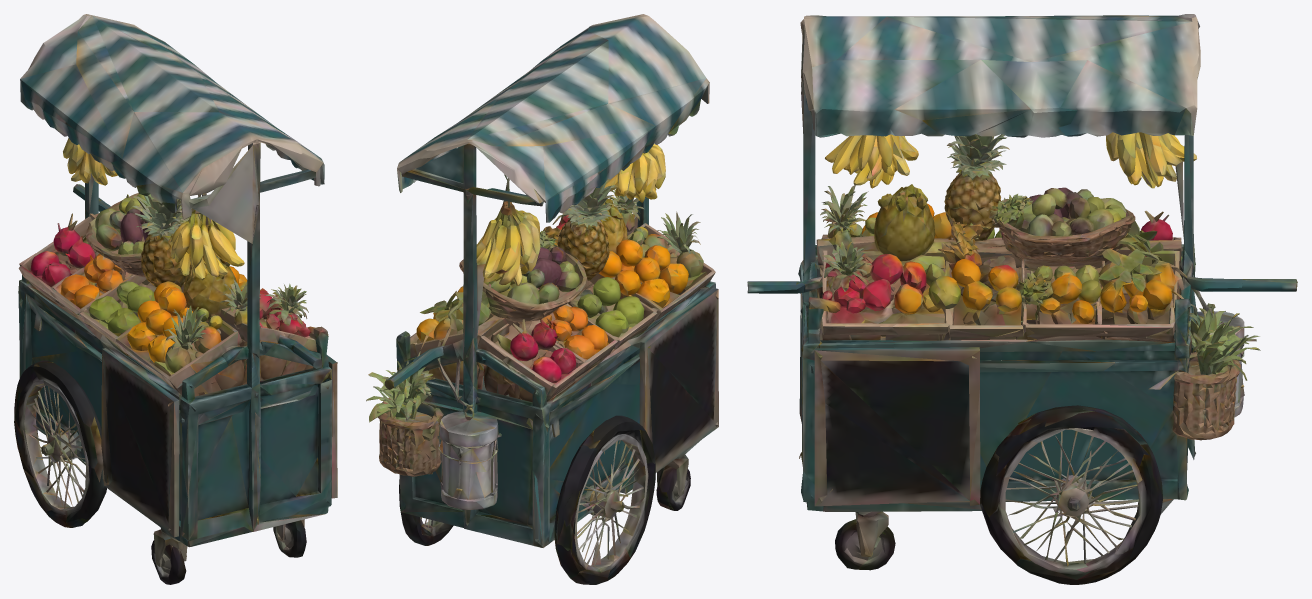
Rendered from vc1_cart_a.glb.
The picture shows the model from 3 angles, left to right: view 1: azimuth 30°, elevation 25°; view 2: azimuth 150°, elevation 25°; view 3: azimuth 270°, elevation 25°; orthographic projection. The views are drawn at different scales.
Visible parts, largest first — view 1: vc1_cart_a; view 2: vc1_cart_a; view 3: vc1_cart_a.
Part boxes in pixels (<box>): vc1_cart_a: <box>14,14,337,584</box>; vc1_cart_a: <box>366,14,718,584</box>; vc1_cart_a: <box>747,14,1297,584</box>.
Bounding box in the file's own units: 0.9435 × 2 × 1.93.
1 material, 1 textured.
